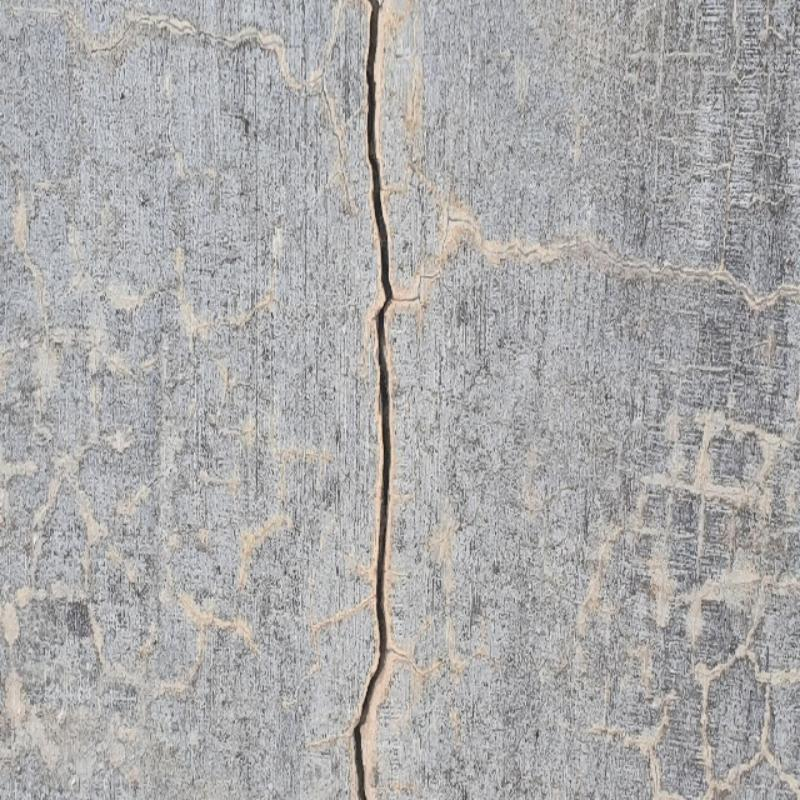pothole: (350, 6, 395, 791)
